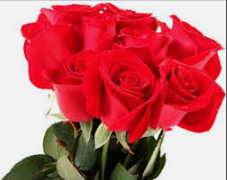RedRose: (97, 46, 162, 139), (155, 56, 226, 139), (44, 51, 103, 126)
